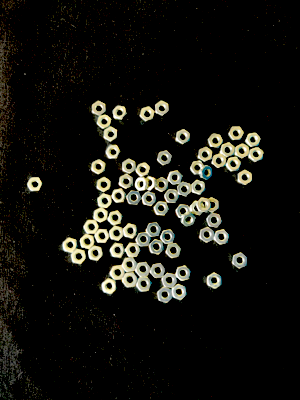nut: (207, 272, 223, 289), (176, 265, 192, 282), (172, 284, 188, 301), (135, 262, 152, 278), (249, 147, 265, 163), (198, 147, 214, 163), (140, 107, 156, 123), (162, 273, 178, 289), (150, 263, 166, 279), (166, 243, 182, 259), (149, 239, 165, 255), (110, 265, 126, 281), (102, 279, 118, 295), (108, 210, 124, 226), (71, 249, 87, 265), (245, 133, 262, 148), (158, 287, 173, 304), (125, 243, 142, 258), (62, 238, 79, 253), (27, 177, 44, 192), (238, 170, 253, 186), (208, 134, 224, 149), (233, 253, 248, 269), (207, 213, 223, 228), (200, 227, 215, 243), (205, 197, 220, 213), (190, 200, 205, 216), (181, 212, 197, 227), (177, 181, 192, 197), (157, 151, 173, 166), (155, 101, 170, 117), (164, 189, 180, 204), (154, 201, 170, 216), (137, 277, 153, 292), (160, 230, 176, 245), (135, 177, 150, 193), (126, 191, 142, 206), (119, 174, 134, 190), (97, 177, 112, 193), (123, 272, 138, 288), (110, 243, 126, 258), (88, 246, 104, 261), (84, 220, 100, 235), (80, 234, 95, 250), (235, 144, 250, 159), (229, 127, 244, 142), (227, 157, 242, 172), (221, 143, 236, 158), (212, 154, 227, 169), (215, 230, 230, 245), (176, 204, 191, 219), (192, 180, 207, 195), (176, 130, 191, 145), (113, 106, 128, 121), (168, 171, 183, 186), (136, 162, 151, 177), (122, 159, 137, 174), (97, 115, 112, 130), (92, 160, 107, 175), (112, 189, 127, 204), (98, 194, 113, 209), (124, 224, 139, 239), (109, 226, 124, 241), (94, 208, 109, 223), (197, 198, 213, 212), (200, 165, 214, 181), (146, 223, 162, 237), (155, 177, 169, 193), (136, 233, 152, 247), (122, 258, 138, 272), (190, 161, 205, 175), (93, 101, 107, 116), (104, 127, 118, 142), (106, 145, 121, 159), (95, 229, 110, 243), (143, 192, 157, 206), (145, 176, 158, 191)
